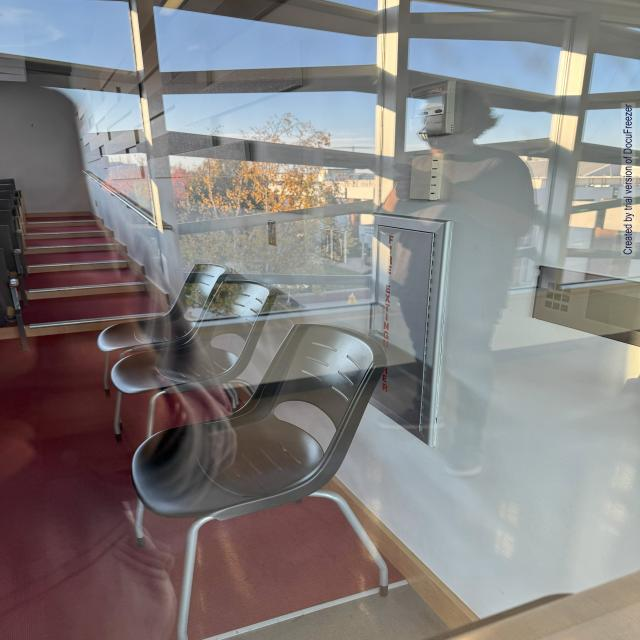chair: (140, 311, 415, 640)
